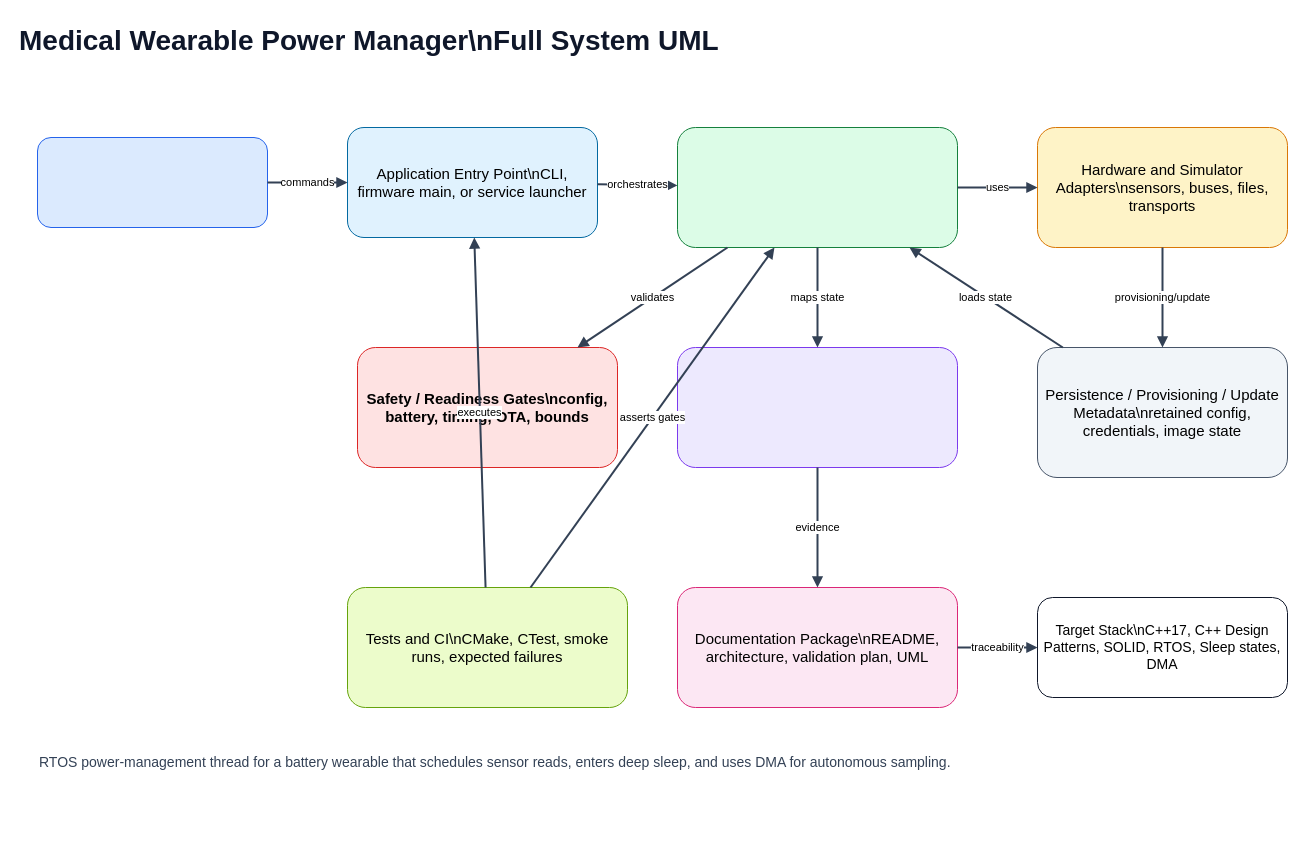
This 1305x844 diagram has some shape labels left out. The shapes that lost their labels are listed below. From the top down, each one's centre as x and y in pixels, then its label:
the point at 152,182: Operator / Cloud / Test Harness
the point at 817,187: Domain / Control Core\nstate model, policy, orchestration
the point at 817,407: Telemetry and Evidence\nJSON, reports, logs, measurements
